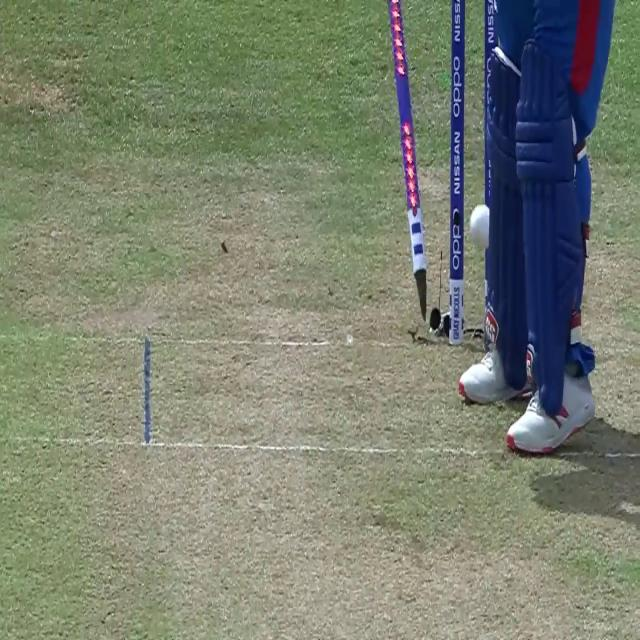ball: (467, 203, 491, 249)
